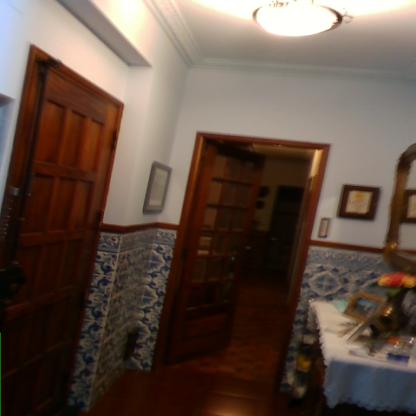closed: (7, 40, 118, 415)
open: (171, 112, 344, 398)
